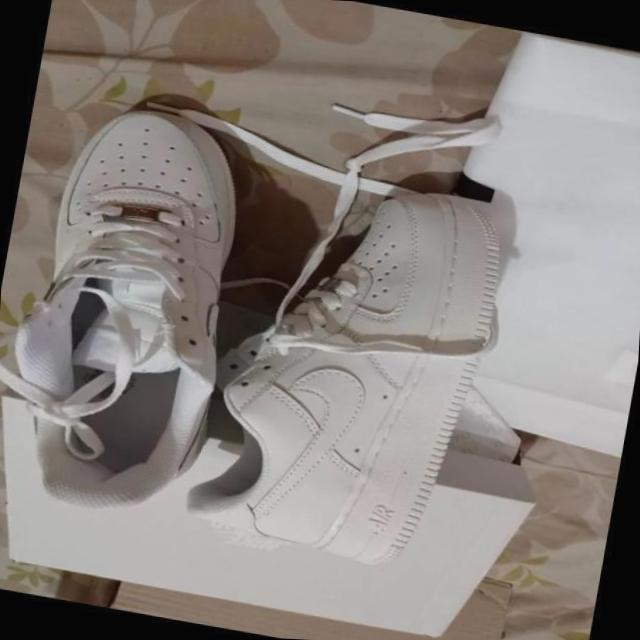nike_fake_airforce: (182, 158, 526, 585), (0, 87, 264, 532)
